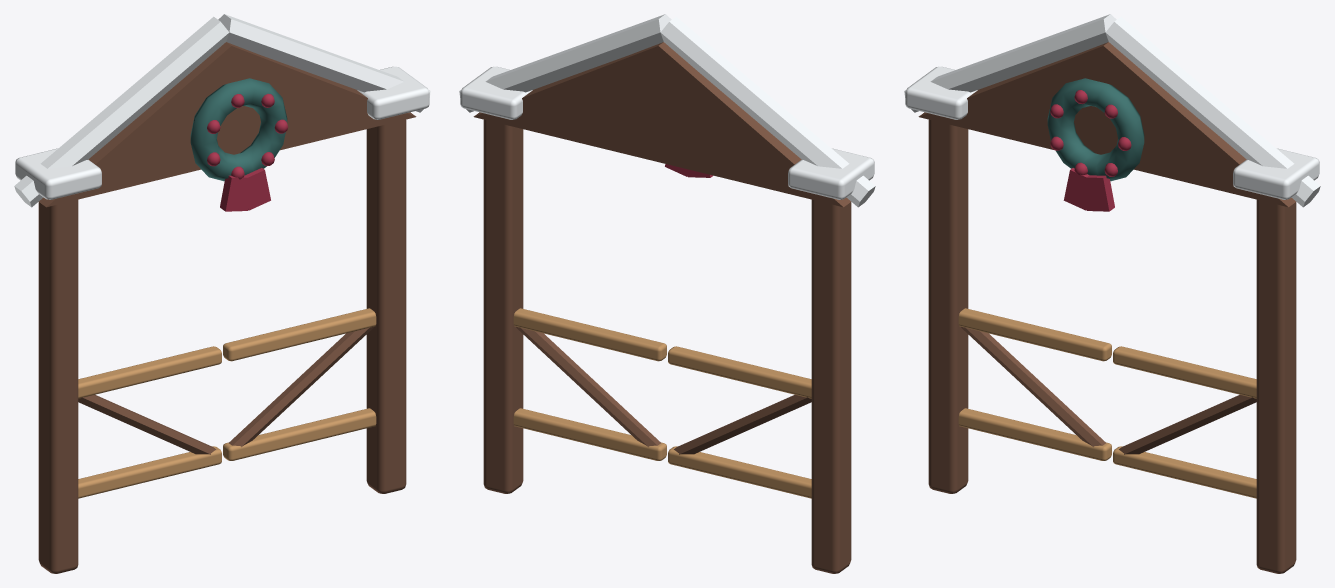
The model's file is alpine-snow-village-wreath-garden-entrance-1dbae834__19803.glb.
3 views of the same model, side by side, from view 1: azimuth 30°, elevation 25°; view 2: azimuth 150°, elevation 25°; view 3: azimuth 330°, elevation 25° (orthographic).
Parts seen in each view (by area): view 1: wreath-garden-entrance-wood, wreath-garden-entrance-snow, wreath-garden-entrance-oak, wreath-garden-entrance-pine, wreath-garden-entrance-berry; view 2: wreath-garden-entrance-wood, wreath-garden-entrance-snow, wreath-garden-entrance-oak; view 3: wreath-garden-entrance-wood, wreath-garden-entrance-snow, wreath-garden-entrance-oak, wreath-garden-entrance-pine, wreath-garden-entrance-berry.
Part boxes in pixels (<box>): wreath-garden-entrance-wood: <box>38,42,416,573</box>; wreath-garden-entrance-snow: <box>14,14,430,207</box>; wreath-garden-entrance-oak: <box>78,308,376,498</box>; wreath-garden-entrance-pine: <box>190,78,287,181</box>; wreath-garden-entrance-berry: <box>207,93,288,211</box>; wreath-garden-entrance-wood: <box>473,42,851,573</box>; wreath-garden-entrance-snow: <box>459,14,875,207</box>; wreath-garden-entrance-oak: <box>513,308,811,498</box>; wreath-garden-entrance-wood: <box>918,42,1296,573</box>; wreath-garden-entrance-snow: <box>904,14,1320,207</box>; wreath-garden-entrance-oak: <box>958,308,1256,498</box>; wreath-garden-entrance-pine: <box>1047,78,1144,181</box>; wreath-garden-entrance-berry: <box>1050,90,1131,211</box>.
Bounding box in the file's own units: 2.87 × 3.42 × 0.5349.
